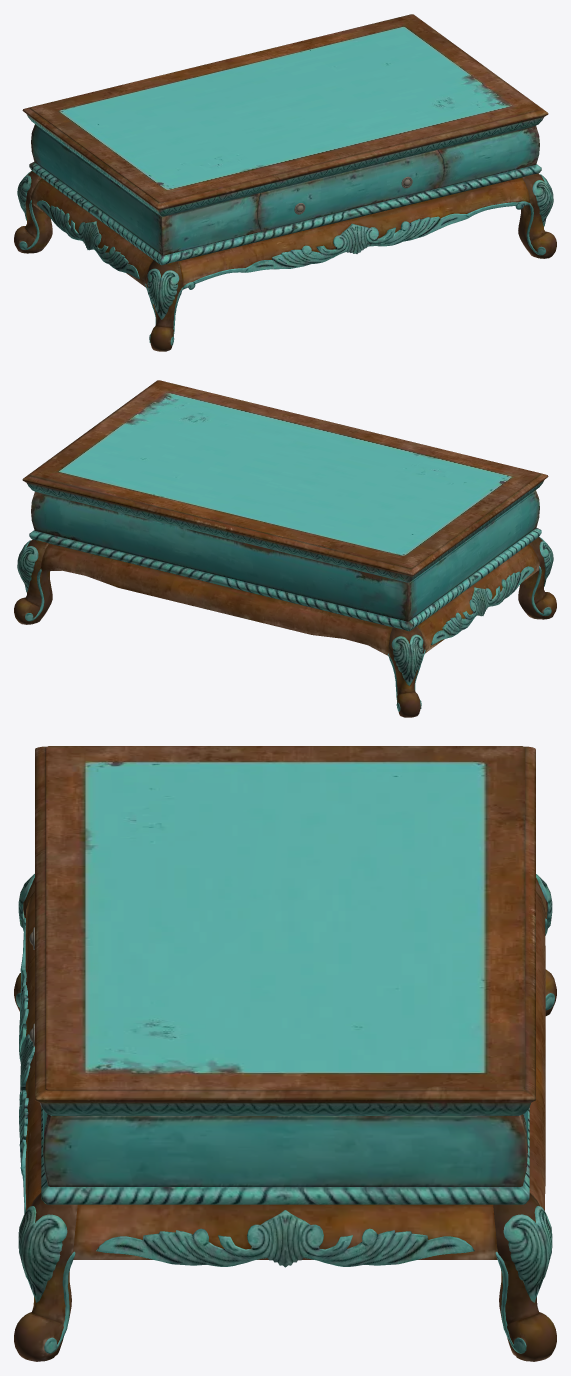
File: CoffeeTable_01.glb
3 views of the same model, one above another, from view 1: azimuth 30°, elevation 25°; view 2: azimuth 150°, elevation 25°; view 3: azimuth 270°, elevation 25° (orthographic). The views are drawn at different scales.
Parts seen in each view (by area): view 1: CoffeeTable_01; view 2: CoffeeTable_01; view 3: CoffeeTable_01.
Boxes of the visible parts, x1,y1,x2,y2 form: CoffeeTable_01: [14, 14, 556, 351]; CoffeeTable_01: [14, 380, 556, 717]; CoffeeTable_01: [14, 746, 556, 1361].
Size of the model in its own units: 1.54 by 0.5232 by 0.9728.
Materials: 1 (1 with a texture image).
